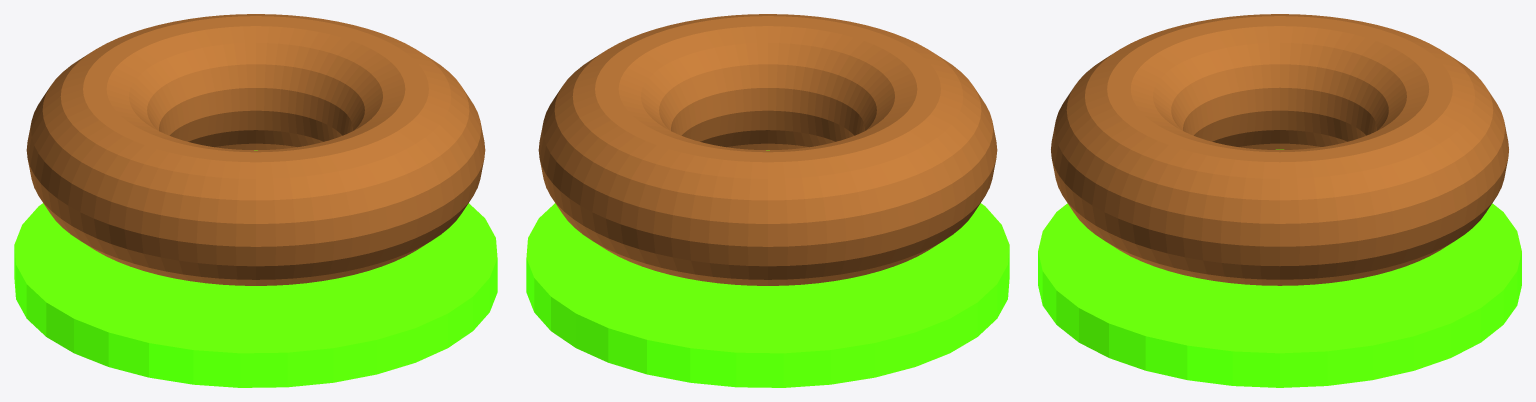
Rendered from food_donut.dae.
The picture shows the model from 3 angles, left to right: view 1: azimuth 30°, elevation 25°; view 2: azimuth 150°, elevation 25°; view 3: azimuth 270°, elevation 25°; orthographic projection.
Visible parts, largest first — view 1: 01_06_Popular_Food_Donut_part_01, 01_06_Popular_Food_Donut_ROOT_base; view 2: 01_06_Popular_Food_Donut_part_01, 01_06_Popular_Food_Donut_ROOT_base; view 3: 01_06_Popular_Food_Donut_part_01, 01_06_Popular_Food_Donut_ROOT_base.
Part boxes in pixels (bbox=[...]): 01_06_Popular_Food_Donut_part_01: bbox=[26, 14, 485, 285]; 01_06_Popular_Food_Donut_ROOT_base: bbox=[14, 150, 497, 387]; 01_06_Popular_Food_Donut_part_01: bbox=[538, 14, 997, 285]; 01_06_Popular_Food_Donut_ROOT_base: bbox=[526, 150, 1009, 387]; 01_06_Popular_Food_Donut_part_01: bbox=[1051, 14, 1508, 285]; 01_06_Popular_Food_Donut_ROOT_base: bbox=[1038, 149, 1521, 387].
Bounding box in the file's own units: 0.76 × 0.3408 × 0.76.
